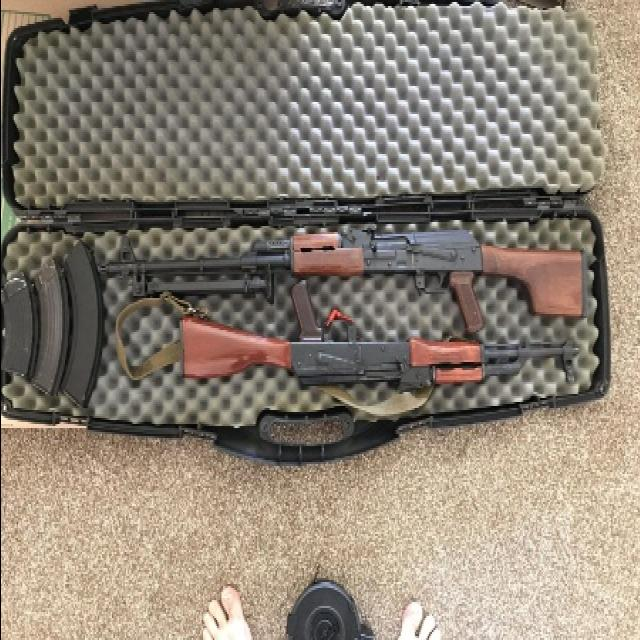rifle: (104, 225, 600, 333), (173, 307, 598, 401)
